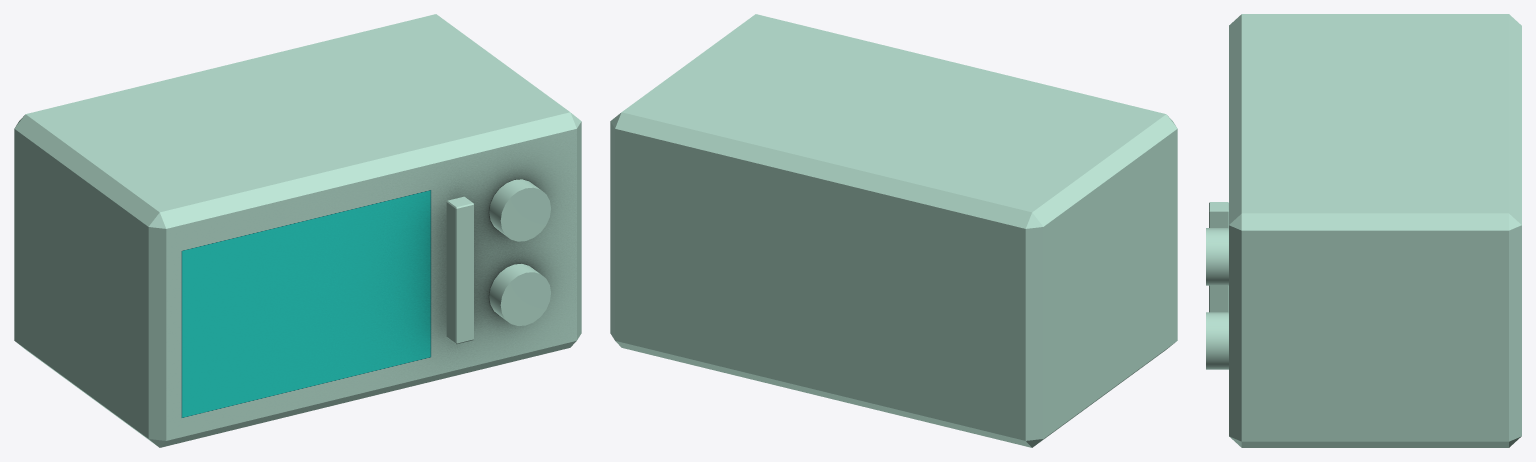
Rendered from Microwave.fbx.
3 renders of one model, left to right at view 1: azimuth 30°, elevation 25°; view 2: azimuth 150°, elevation 25°; view 3: azimuth 270°, elevation 25°, orthographic.
Parts seen in each view (by area): view 1: pCube1, pCube2, pCylinder1, pCylinder2; view 2: pCube1; view 3: pCube1, pCylinder1, pCylinder2, pCube2.
Part boxes in pixels (x1,y1,x2,y2): pCube1: [14, 14, 581, 447]; pCube2: [446, 196, 473, 344]; pCylinder1: [489, 179, 550, 241]; pCylinder2: [489, 263, 550, 325]; pCube1: [610, 14, 1177, 447]; pCube1: [1229, 14, 1521, 447]; pCylinder1: [1206, 228, 1228, 285]; pCylinder2: [1206, 312, 1228, 369]; pCube2: [1209, 202, 1228, 312].
Size of the model in its own units: 7.22 by 3.75 by 4.58.
